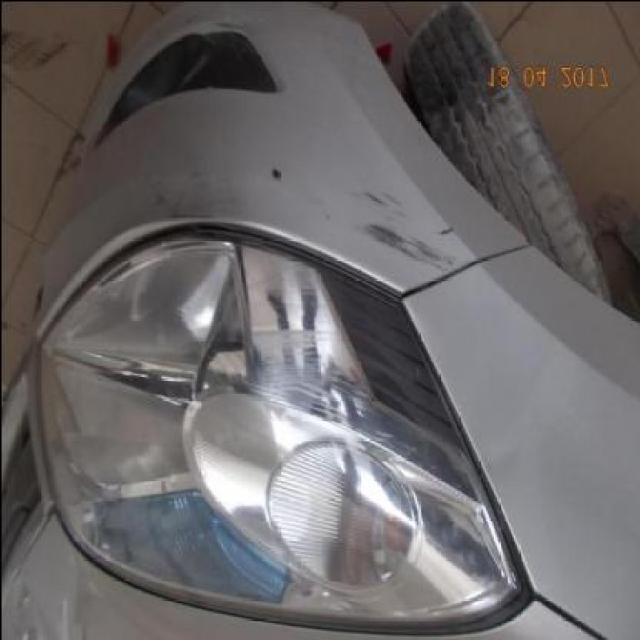damage: (357, 188, 456, 278)
